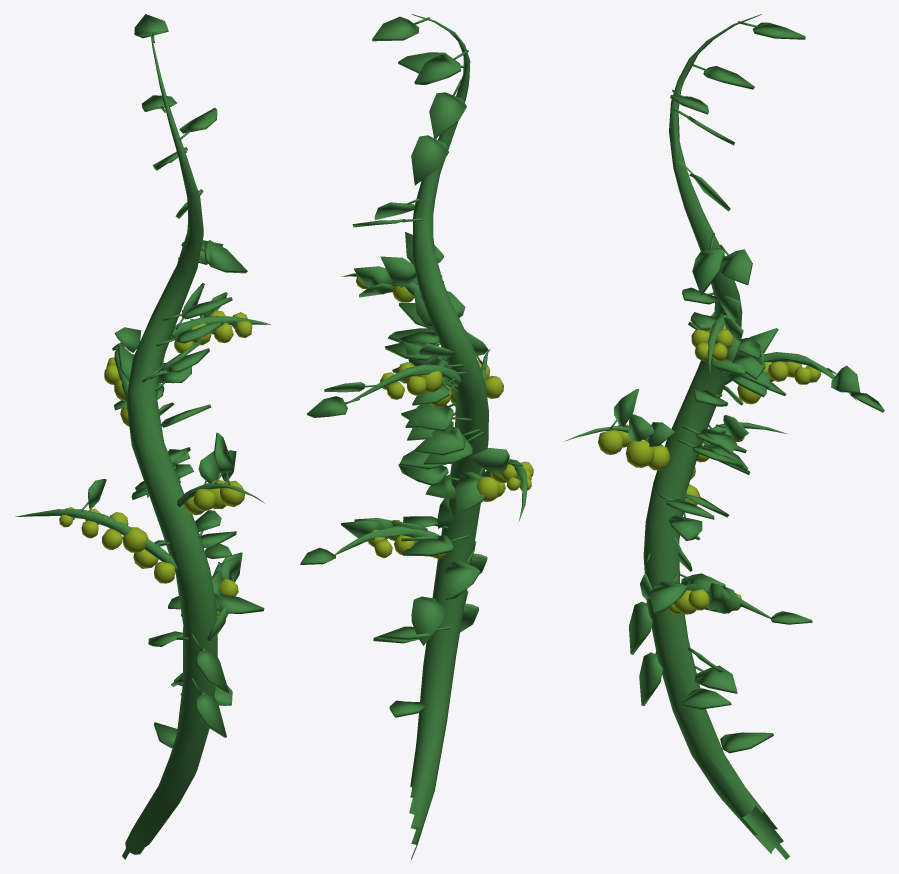
File: tomato_middle.glb
3 renders of one model, left to right at view 1: azimuth 30°, elevation 25°; view 2: azimuth 150°, elevation 25°; view 3: azimuth 270°, elevation 25°, orthographic. The views are drawn at different scales.
Parts seen in each view (by area): view 1: TomatoesReady.003; view 2: TomatoesReady.003; view 3: TomatoesReady.003.
Part boxes in pixels (left/top/right/bottom): TomatoesReady.003: left=15, top=14, right=270, bottom=859; TomatoesReady.003: left=300, top=14, right=533, bottom=859; TomatoesReady.003: left=563, top=14, right=884, bottom=859.
Bounding box in the file's own units: 0.5994 × 2.21 × 0.7601.
